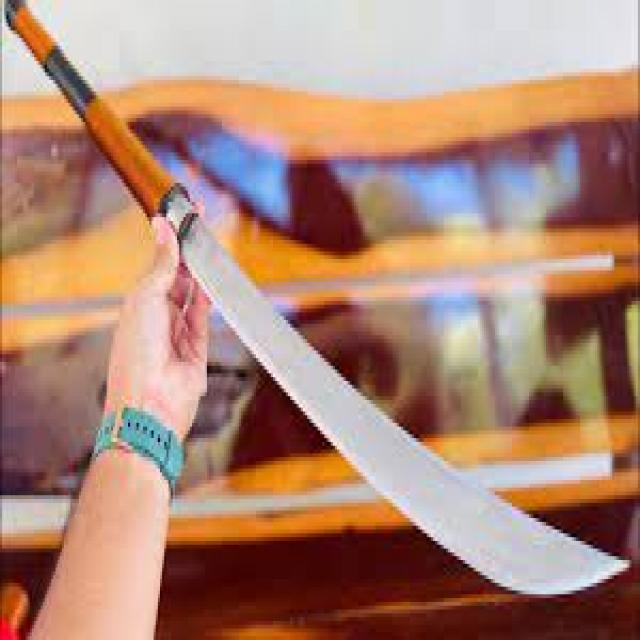long sword: (6, 5, 634, 602)
